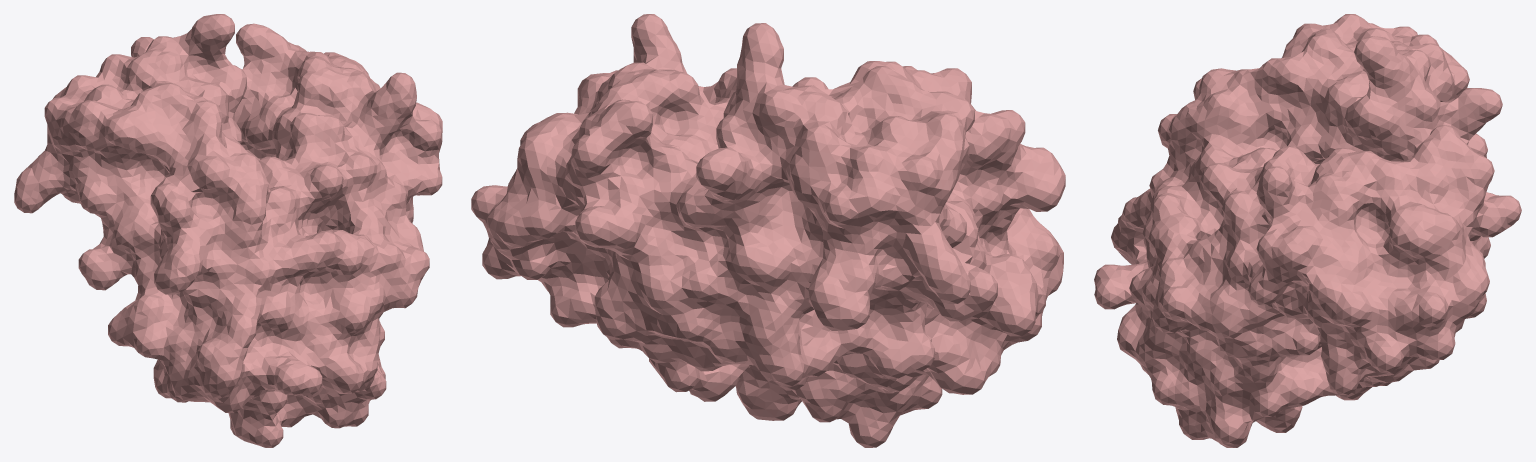
The model's file is 1mbn__surface__default.glb.
The picture shows the model from 3 angles, left to right: view 1: azimuth 30°, elevation 25°; view 2: azimuth 150°, elevation 25°; view 3: azimuth 270°, elevation 25°; orthographic projection. The views are drawn at different scales.
Visible parts, largest first — view 1: Renderer Node; view 2: Renderer Node; view 3: Renderer Node.
Part boxes in pixels (left/top/right/bottom): Renderer Node: left=14, top=14, right=442, bottom=447; Renderer Node: left=471, top=14, right=1065, bottom=447; Renderer Node: left=1094, top=14, right=1521, bottom=447.
Size of the model in its own units: 45.95 by 42.15 by 41.97.
